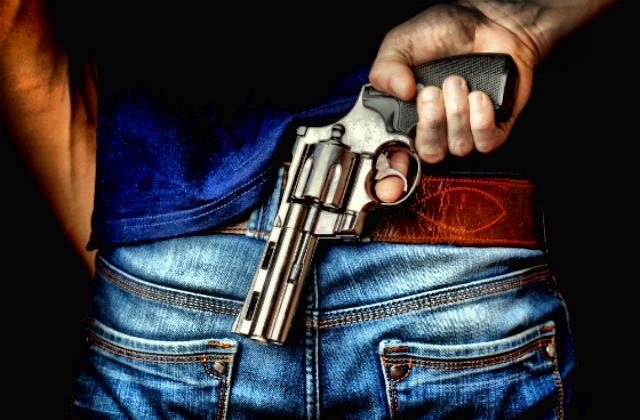pistol: (228, 46, 520, 344)
